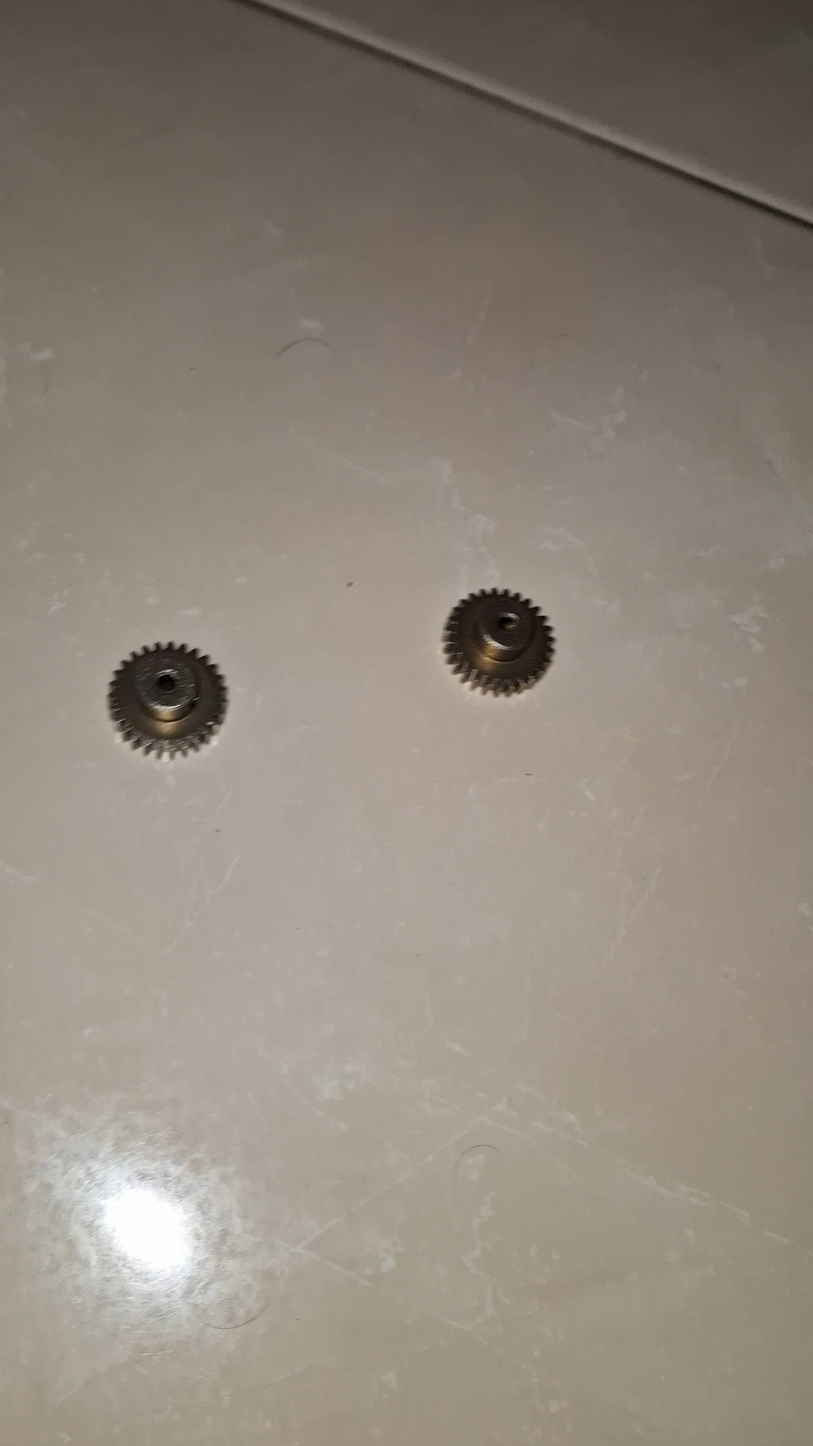spur gear: (108, 643, 227, 757), (443, 590, 554, 694)
